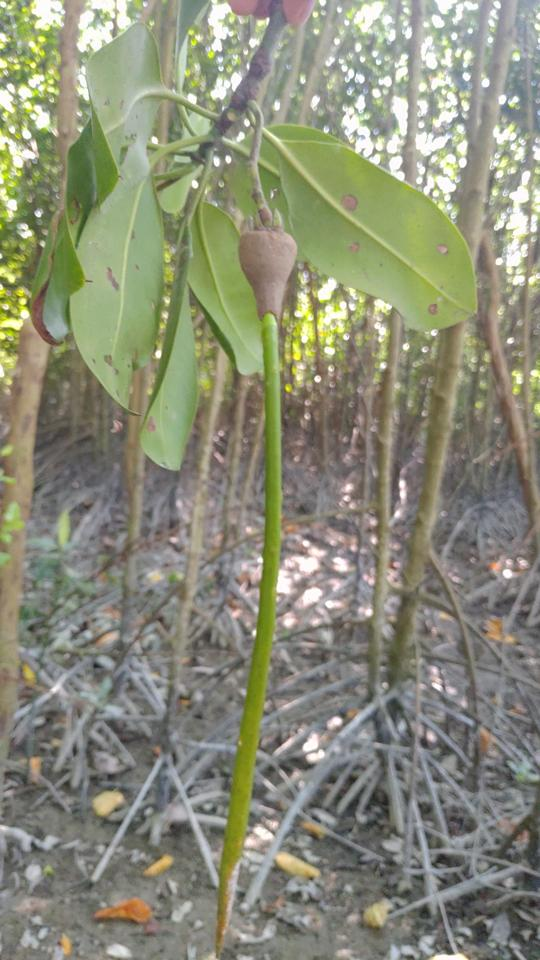setengah matang: (200, 210, 309, 958)
